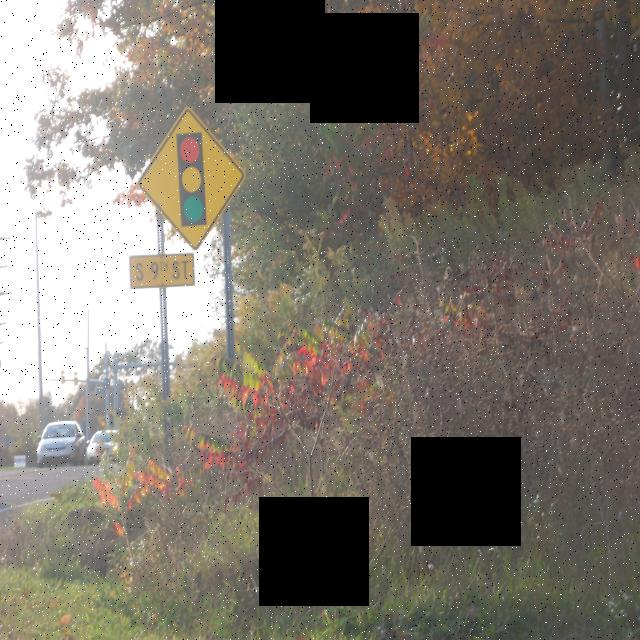warning: (136, 103, 251, 252), (125, 250, 201, 290)
